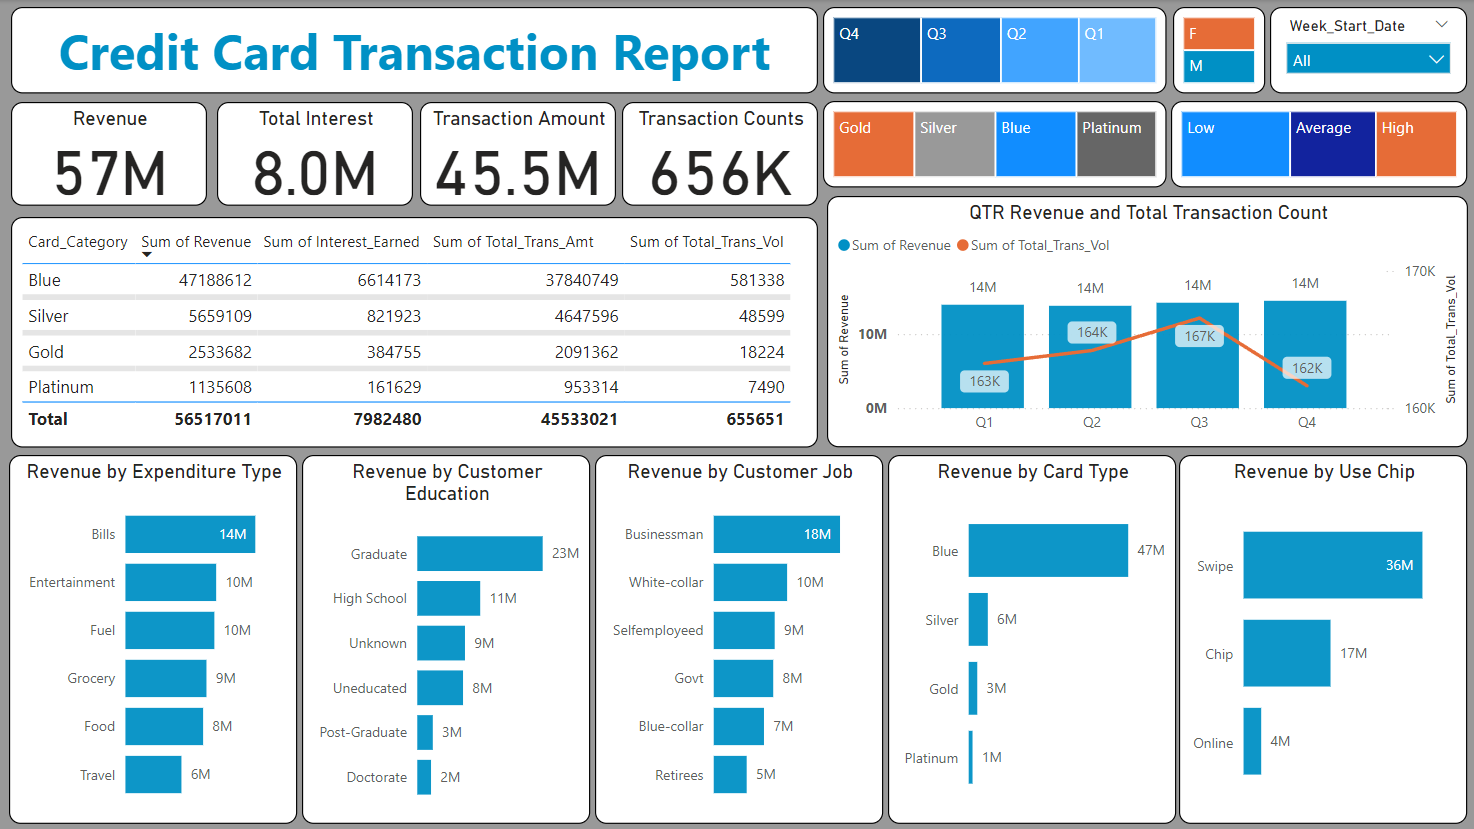

Layout of this report page (visuals, bound fields, positions):
{"tool":"powerbi","page":{"name":"CC Trans","canvas":[1280,720],"ordinal":0},"visuals":[{"type":"textbox","box":[10,6.4,700,75],"z":0},{"type":"lineStackedColumnComboChart","title":"QTR Revenue and Total Transaction Count","fields":{"Category":["credit_card.Qtr"],"Y":["Sum(credit_card.Revenue)"],"Y2":["Sum(credit_card.Total_Trans_Vol)"]},"box":[10,515,453,203],"z":1000},{"type":"barChart","title":"Revenue by Expenditure Type","fields":{"Y":["Sum(credit_card.Revenue)"],"Category":["credit_card.Exp Type"]},"box":[468,168,224,342],"z":2000},{"type":"barChart","title":"Revenue by Customer Job","fields":{"Y":["Sum(credit_card.Revenue)"],"Category":["customer.Customer_Job"]},"box":[697,168,224,342],"z":3000},{"type":"barChart","title":"Revenue by Card Type","fields":{"Y":["Sum(credit_card.Revenue)"],"Category":["credit_card.Card_Category"]},"box":[239,168,224,342],"z":4000},{"type":"tableEx","fields":{"Values":["credit_card.Card_Category","Sum(credit_card.Revenue)","Sum(credit_card.Interest_Earned)","Sum(credit_card.Total_Trans_Vol)"]},"box":[468,515,453,203],"z":5000},{"type":"card","title":"Revenue","fields":{"Values":["Sum(credit_card.Revenue)"]},"box":[10,88,170,75],"z":6000},{"type":"card","title":"Avg. Spend by Cust","fields":{"Values":["cc_add.Avg Spend per Customer"]},"box":[365,88,170,75],"z":7000},{"type":"card","title":"Total Interest","fields":{"Values":["Sum(credit_card.Interest_Earned)"]},"box":[189,88,170,75],"z":8000},{"type":"card","title":"Transaction Counts","fields":{"Values":["Sum(credit_card.Total_Trans_Vol)"]},"box":[540,88,170,75],"z":9000},{"type":"slicer","fields":{"Values":["credit_card.Week_Start_Date"]},"box":[1102.5,6.2,171.2,75],"z":10000},{"type":"treemap","fields":{"Group":["credit_card.Qtr"],"Values":["Avg(credit_card.Client_Num)"]},"box":[715,6,298,75],"z":11000},{"type":"treemap","fields":{"Values":["Avg(credit_card.Client_Num)"],"Group":["customer.Gender"]},"box":[1018,6,80,75],"z":12000},{"type":"treemap","fields":{"Values":["Avg(credit_card.Client_Num)"],"Group":["credit_card.Card_Category"]},"box":[715,88,298,75],"z":13000},{"type":"barChart","title":"Revenue by Income Type","fields":{"Y":["Sum(credit_card.Revenue)"],"Category":["customer.IncomeGroup"]},"box":[10,168,224,342],"z":15000},{"type":"textbox","box":[926,168,348,550],"z":15001},{"type":"treemap","fields":{"Values":["Avg(credit_card.Client_Num)"],"Group":["credit_card.Use Chip"]},"box":[1017,88,257,75],"z":15002}]}

Visuals, with their boxes in screenshot pixels (x1, y1, x2, y2), scaled from the page's 1280x720 canvas onto the 1474x829 screenshot:
textbox: box=[12, 7, 818, 94]
"QTR Revenue and Total Transaction Count" lineStackedColumnComboChart: box=[12, 593, 533, 827]
"Revenue by Expenditure Type" barChart: box=[539, 193, 797, 587]
"Revenue by Customer Job" barChart: box=[803, 193, 1061, 587]
"Revenue by Card Type" barChart: box=[275, 193, 533, 587]
tableEx - credit_card.Card_Category x Sum(credit_card.Revenue): box=[539, 593, 1061, 827]
"Revenue" card: box=[12, 101, 207, 188]
"Avg. Spend by Cust" card: box=[420, 101, 616, 188]
"Total Interest" card: box=[218, 101, 413, 188]
"Transaction Counts" card: box=[622, 101, 818, 188]
slicer - credit_card.Week_Start_Date: box=[1270, 7, 1467, 93]
treemap - credit_card.Qtr x Avg(credit_card.Client_Num): box=[823, 7, 1167, 93]
treemap - Avg(credit_card.Client_Num) x customer.Gender: box=[1172, 7, 1264, 93]
treemap - Avg(credit_card.Client_Num) x credit_card.Card_Category: box=[823, 101, 1167, 188]
"Revenue by Income Type" barChart: box=[12, 193, 269, 587]
textbox: box=[1066, 193, 1467, 827]
treemap - Avg(credit_card.Client_Num) x credit_card.Use Chip: box=[1171, 101, 1467, 188]
